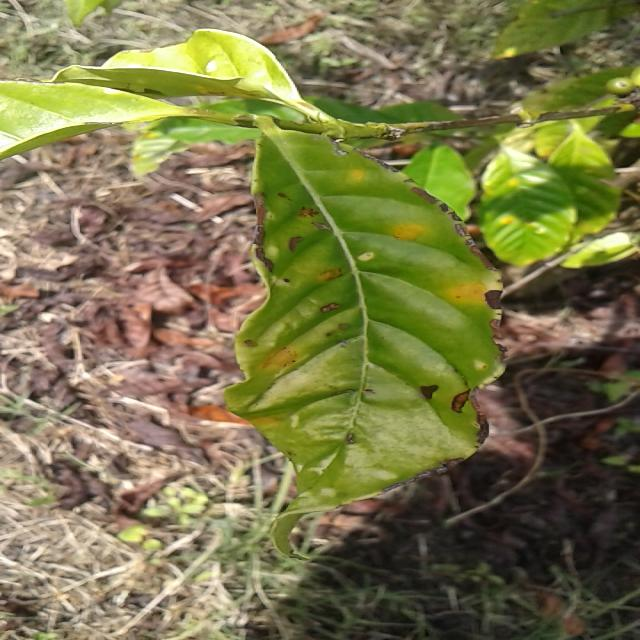Enfermedad-Roya: (222, 112, 501, 518)
